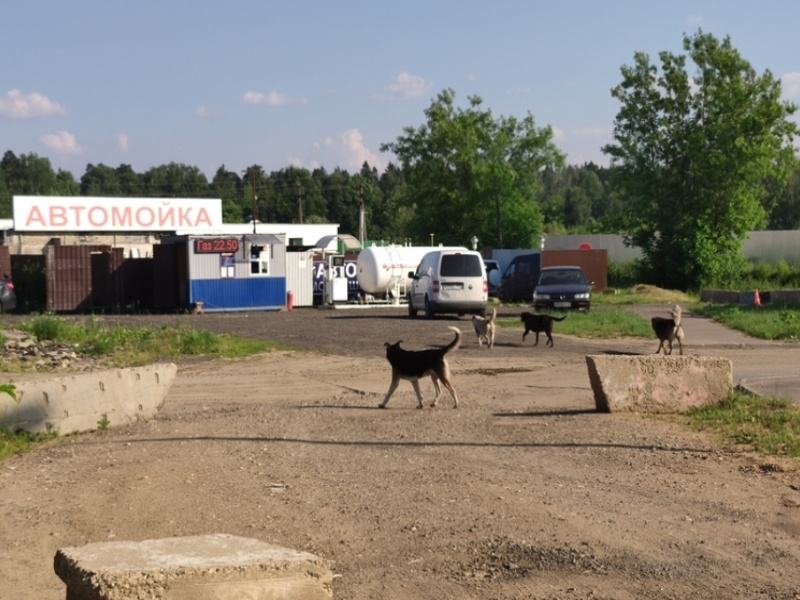dog: (372, 323, 467, 412), (648, 305, 686, 355), (515, 312, 567, 345), (472, 306, 496, 350)
